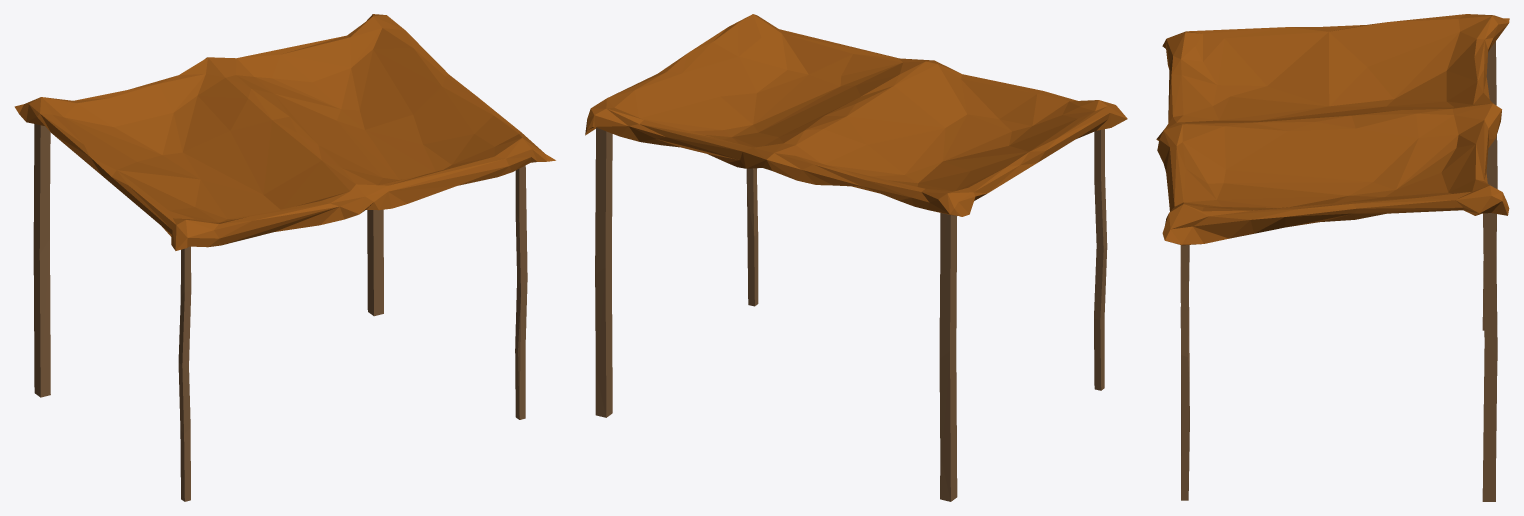
The model's file is Market_Roof_02.fbx.
The picture shows the model from 3 angles, left to right: view 1: azimuth 30°, elevation 25°; view 2: azimuth 150°, elevation 25°; view 3: azimuth 270°, elevation 25°; orthographic projection. The views are drawn at different scales.
Visible parts, largest first — view 1: Market_Roof_02; view 2: Market_Roof_02; view 3: Market_Roof_02.
Part boxes in pixels (x1,y1,x2,y2): Market_Roof_02: [14, 14, 555, 501]; Market_Roof_02: [585, 14, 1127, 501]; Market_Roof_02: [1156, 14, 1509, 501].
Bounding box in the file's own units: 2.72 × 2.03 × 2.08.
